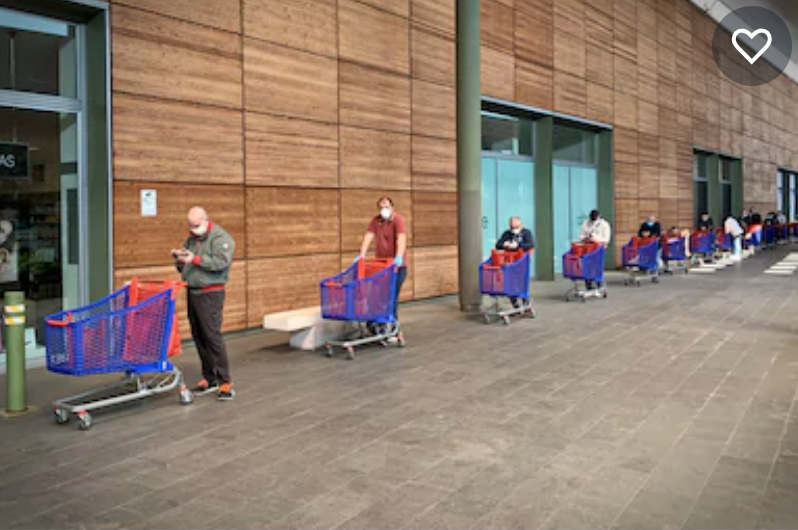Good: (171, 194, 414, 394), (339, 183, 536, 346), (477, 204, 608, 337)
